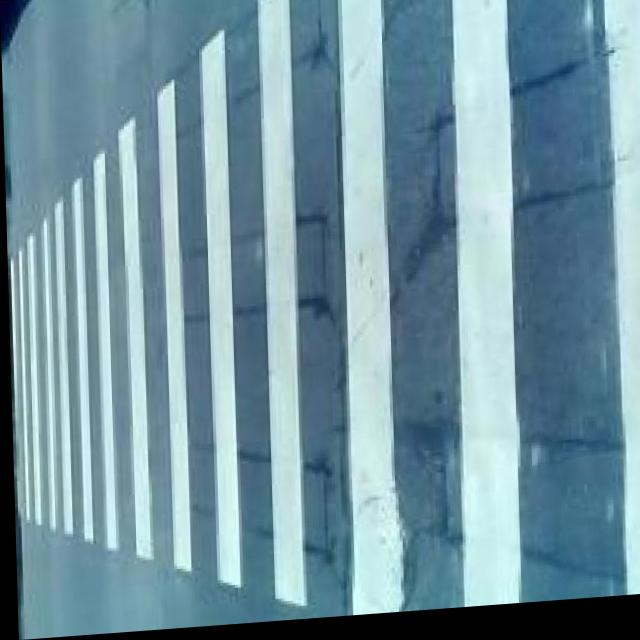zebra: (23, 102, 640, 530)
